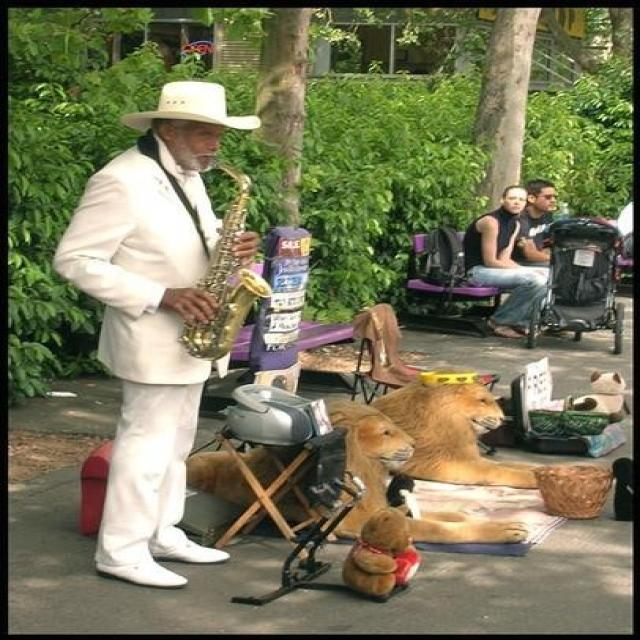saxophone: (178, 157, 278, 364)
